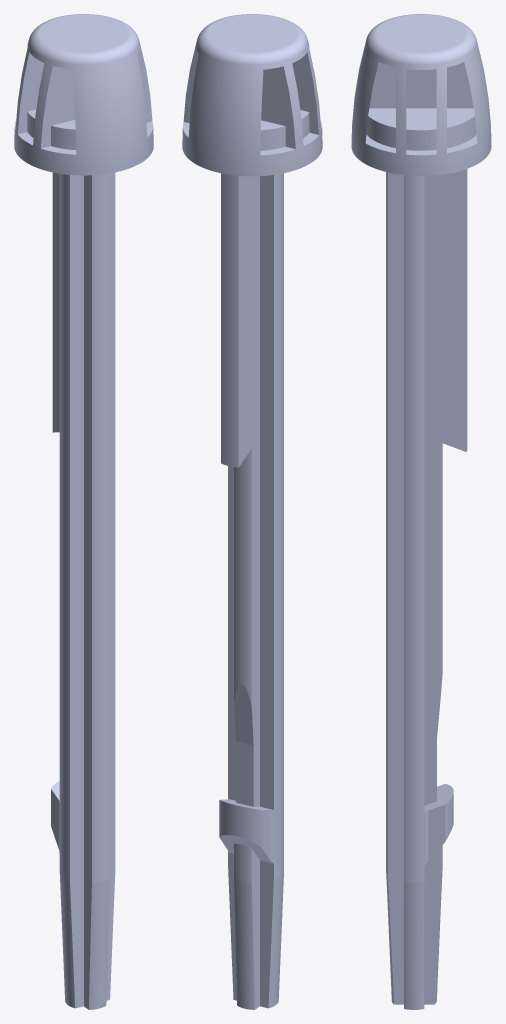
3 views of the same model, side by side, from view 1: azimuth 30°, elevation 25°; view 2: azimuth 150°, elevation 25°; view 3: azimuth 270°, elevation 25° (orthographic).
Visible parts, largest first — view 1: NAUO1, NAUO2; view 2: NAUO1, NAUO2; view 3: NAUO1, NAUO2.
Boxes of the visible parts, x1=… form: NAUO1: x1=51, y1=172, x2=115, y2=1009; NAUO2: x1=14, y1=14, x2=153, y2=175; NAUO1: x1=219, y1=173, x2=283, y2=1009; NAUO2: x1=182, y1=14, x2=322, y2=176; NAUO1: x1=386, y1=169, x2=467, y2=1009; NAUO2: x1=351, y1=14, x2=491, y2=175.
Bounding box in the file's own units: 0.0124 × 0.0944 × 0.0124.
